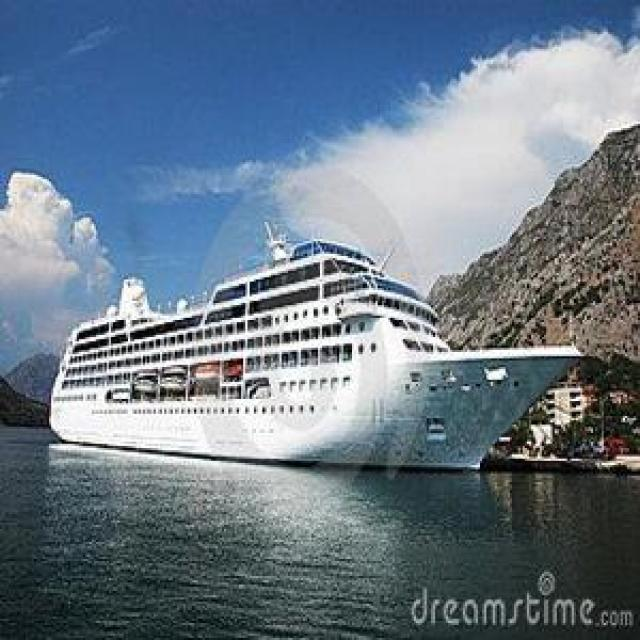passenger ship: (44, 242, 578, 472)
